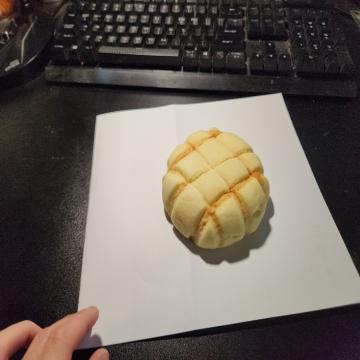melon_bread: (160, 128, 270, 252)
